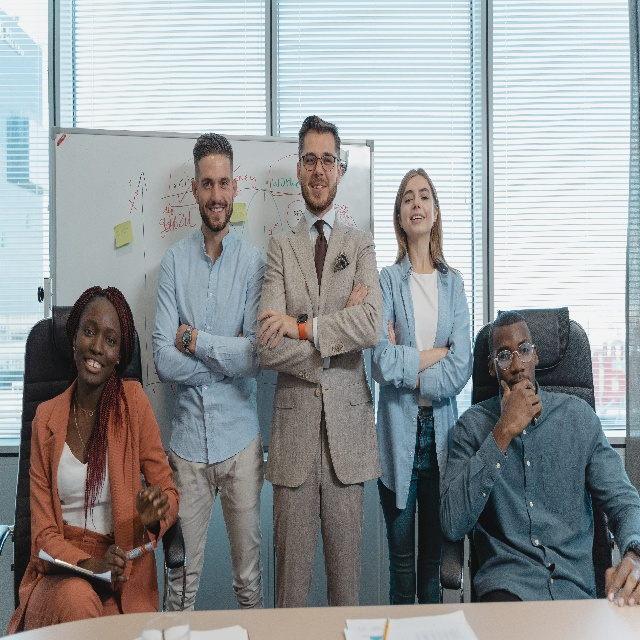Gafas: (496, 344, 533, 368), (303, 153, 335, 172)
Sin_guantes: (500, 376, 542, 434), (604, 553, 640, 606), (258, 308, 298, 350), (136, 482, 170, 522), (106, 542, 129, 581), (345, 283, 368, 308), (176, 322, 196, 347), (387, 318, 396, 345)
